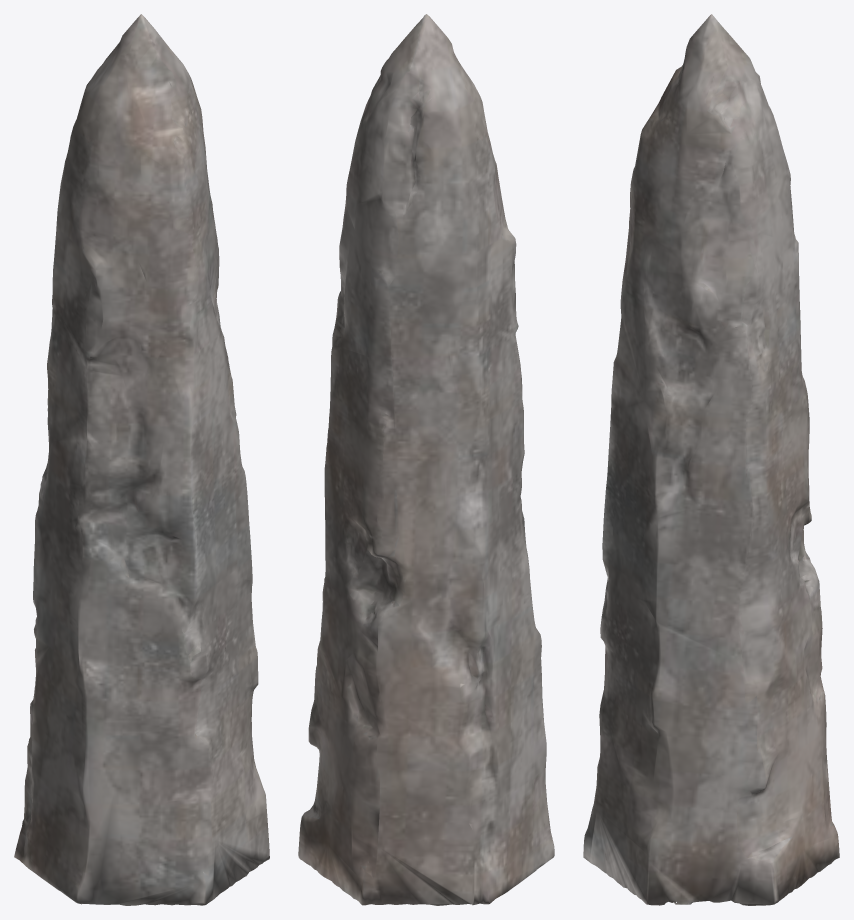
Rendered from SM_stalagmite_02.glb.
3 views of the same model, side by side, from view 1: azimuth 30°, elevation 25°; view 2: azimuth 150°, elevation 25°; view 3: azimuth 270°, elevation 25° (orthographic).
Visible parts, largest first — view 1: SM_stalactic_02; view 2: SM_stalactic_02; view 3: SM_stalactic_02.
Part boxes in pixels (left/top/right/bottom): SM_stalactic_02: left=14, top=14, right=269, bottom=905; SM_stalactic_02: left=298, top=14, right=554, bottom=905; SM_stalactic_02: left=583, top=14, right=839, bottom=905.
Size of the model in its own units: 1.73 by 7.24 by 1.99.
Materials: 1 (1 with a texture image).
